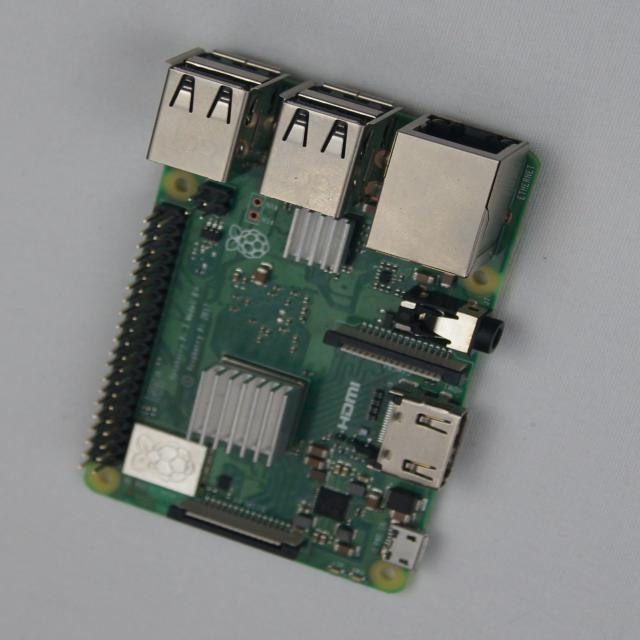Raspberry Pi 3 B-: (86, 50, 536, 593)
